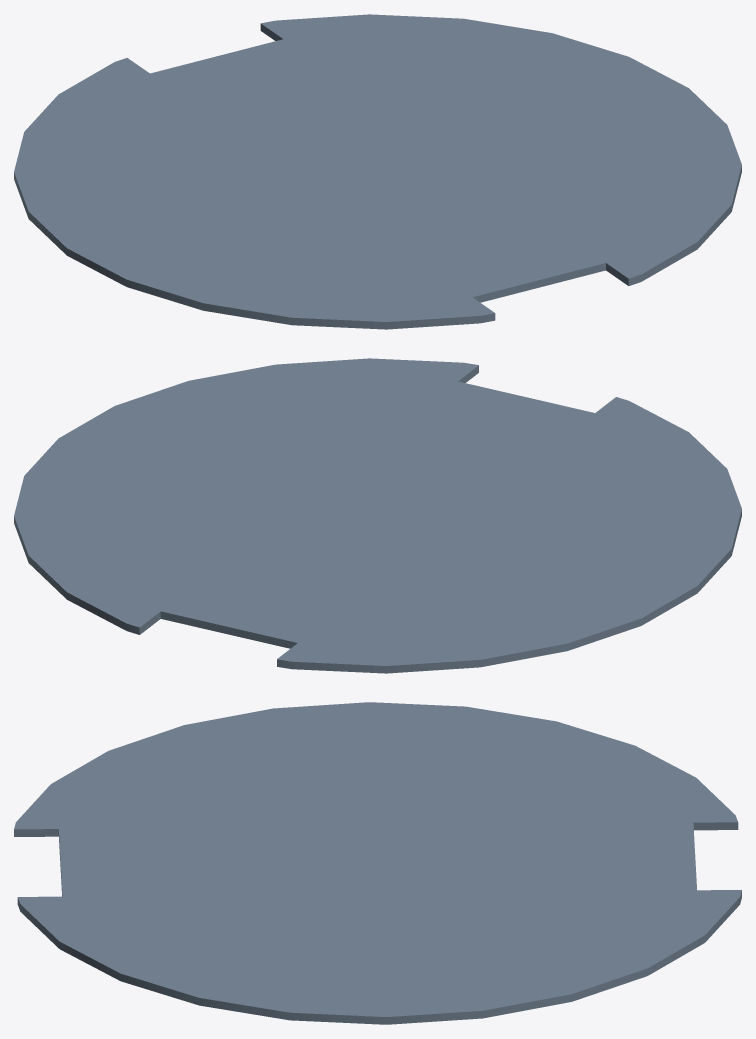
The model's file is sketchup_dae_base.dae.
3 views of the same model, one above another, from view 1: azimuth 30°, elevation 25°; view 2: azimuth 150°, elevation 25°; view 3: azimuth 270°, elevation 25° (orthographic). The views are drawn at different scales.
Parts seen in each view (by area): view 1: group_0; view 2: group_0; view 3: group_0.
Boxes of the visible parts, x1,y1,x2,y2 form: group_0: (14, 14, 741, 329); group_0: (14, 358, 741, 673); group_0: (14, 702, 741, 1024).
Bounding box in the file's own units: 5.5 × 5.38 × 0.0626.
